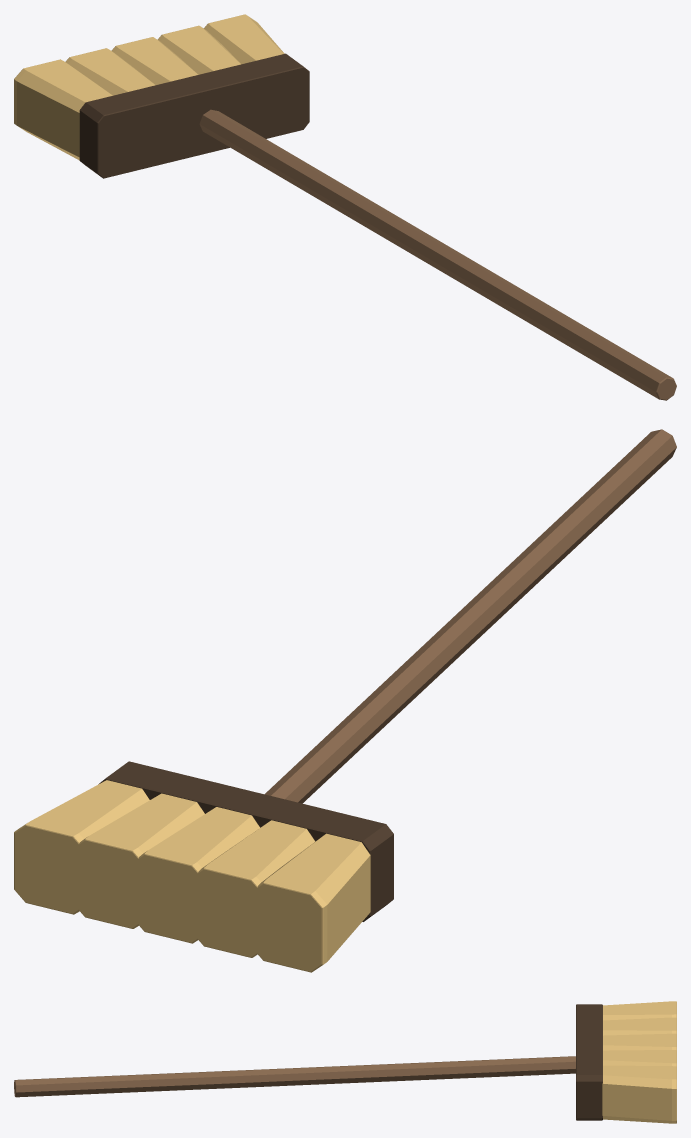
Rendered from broom.glb.
The picture shows the model from 3 angles, top to bottom: view 1: azimuth 30°, elevation 25°; view 2: azimuth 150°, elevation 25°; view 3: azimuth 270°, elevation 25°; orthographic projection. The views are drawn at different scales.
Parts seen in each view (by area): view 1: broom; view 2: broom; view 3: broom.
Part boxes in pixels (x1,y1,x2,y2): broom: (14,14,676,400); broom: (14,429,676,972); broom: (14,1001,676,1123).
Size of the model in its own units: 0.1191 by 0.03 by 0.3937.
